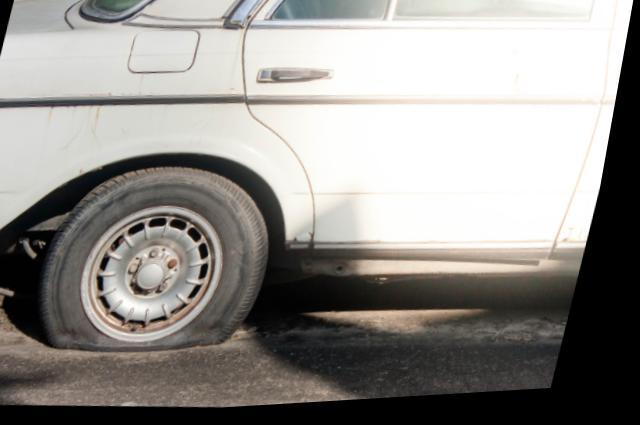tire flat: (50, 165, 286, 355)
